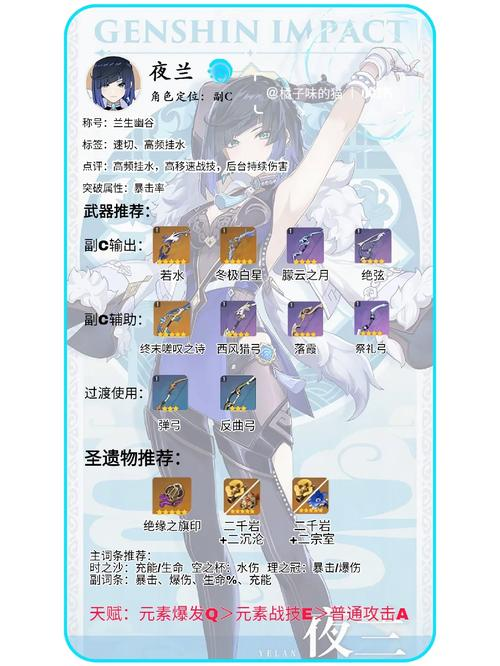夜兰: (165, 43, 429, 657), (87, 54, 135, 112)
